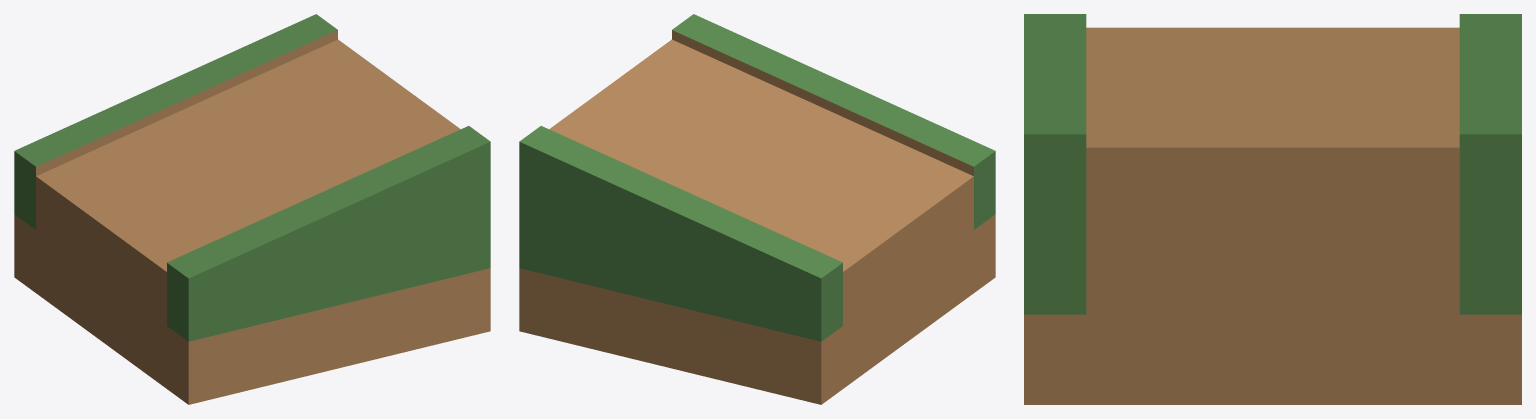
File: tile_104.obj
The picture shows the model from 3 angles, left to right: view 1: azimuth 30°, elevation 25°; view 2: azimuth 150°, elevation 25°; view 3: azimuth 270°, elevation 25°; orthographic projection. The views are drawn at different scales.
Parts seen in each view (by area): view 1: tile_104; view 2: tile_104; view 3: tile_104.
Part boxes in pixels (left/top/right/bottom): tile_104: left=14, top=14, right=490, bottom=404; tile_104: left=519, top=14, right=995, bottom=404; tile_104: left=1024, top=14, right=1521, bottom=404.
Size of the model in its own units: 1 by 0.6 by 1.
